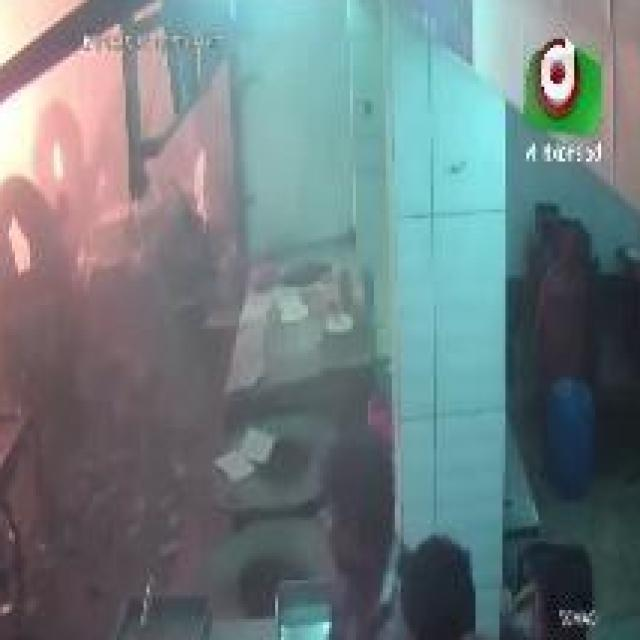smoke: (0, 11, 42, 242)
